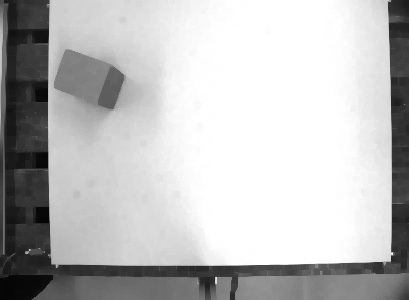b5: (49, 46, 126, 112)
